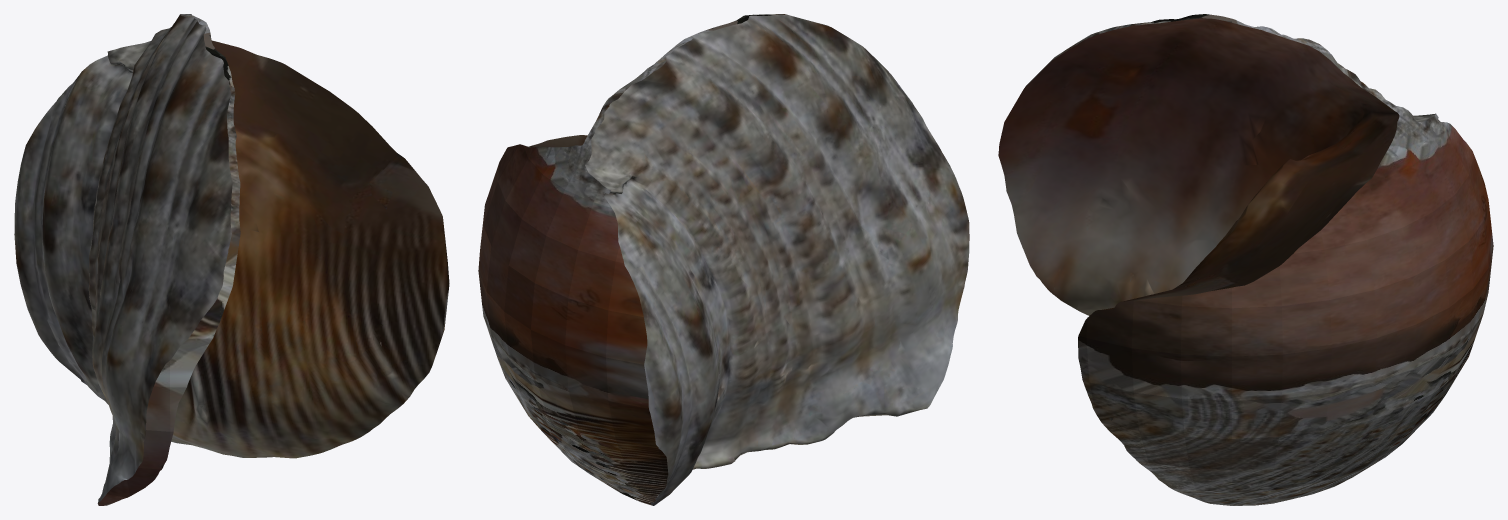
File: muschel.glb
The picture shows the model from 3 angles, left to right: view 1: azimuth 30°, elevation 25°; view 2: azimuth 150°, elevation 25°; view 3: azimuth 270°, elevation 25°; orthographic projection. The views are drawn at different scales.
Visible parts, largest first — view 1: Mesh_0.001; view 2: Mesh_0.001; view 3: Mesh_0.001.
Part boxes in pixels (bbox=[...]): Mesh_0.001: bbox=[14, 14, 449, 505]; Mesh_0.001: bbox=[478, 14, 969, 505]; Mesh_0.001: bbox=[998, 14, 1493, 505].
Bounding box in the file's own units: 0.8058 × 0.9338 × 0.9243.
Materials: 1 (1 with a texture image).
